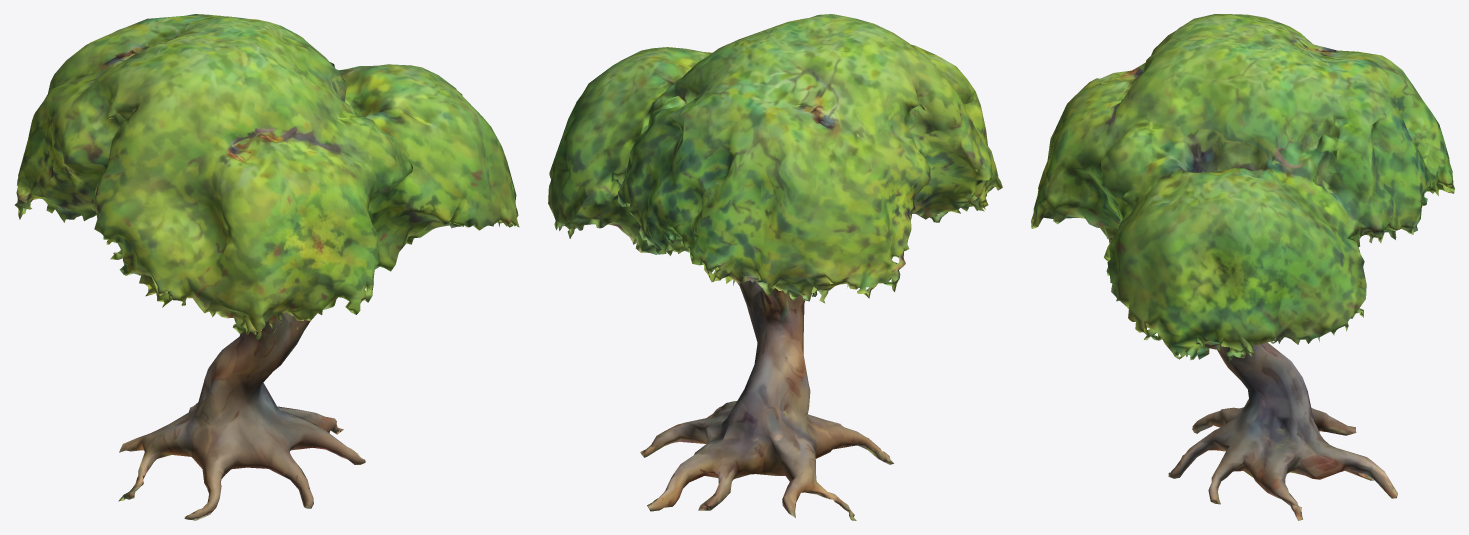
File: Tree.glb
3 views of the same model, side by side, from view 1: azimuth 30°, elevation 25°; view 2: azimuth 150°, elevation 25°; view 3: azimuth 270°, elevation 25° (orthographic). The views are drawn at different scales.
Bounding box in the file's own units: 1.14 × 1.2 × 1.07.
Materials: 1 (1 with a texture image).
